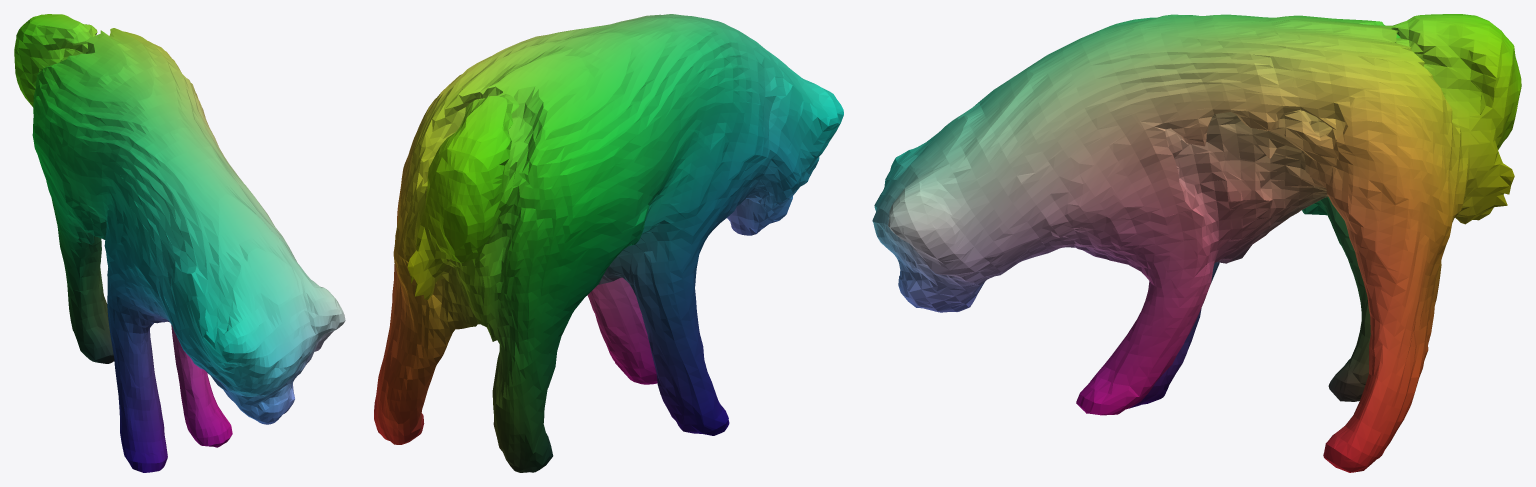
The model's file is shiba-haru-1001-mesh-00064.obj.
3 views of the same model, side by side, from view 1: azimuth 30°, elevation 25°; view 2: azimuth 150°, elevation 25°; view 3: azimuth 270°, elevation 25° (orthographic). The views are drawn at different scales.
Bounding box in the file's own units: 0.0506 × 0.0842 × 0.1188.
